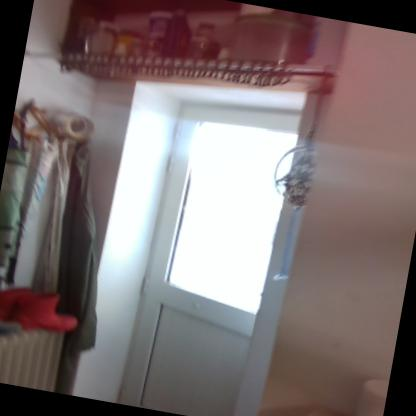closed: (78, 72, 336, 415)
